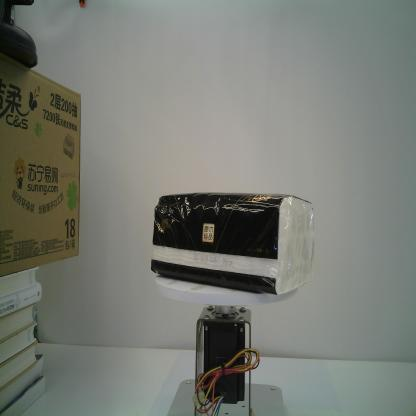Tissue: (149, 192, 315, 296)
